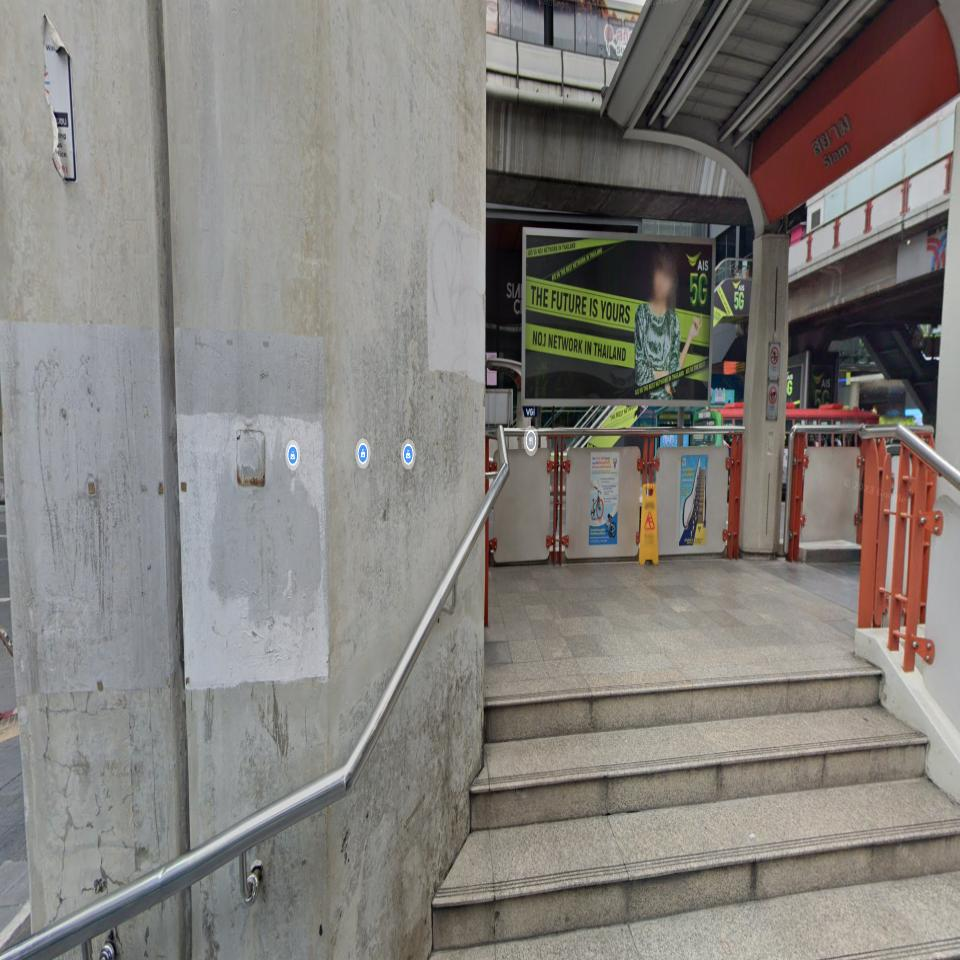Siam: (751, 5, 960, 222)
